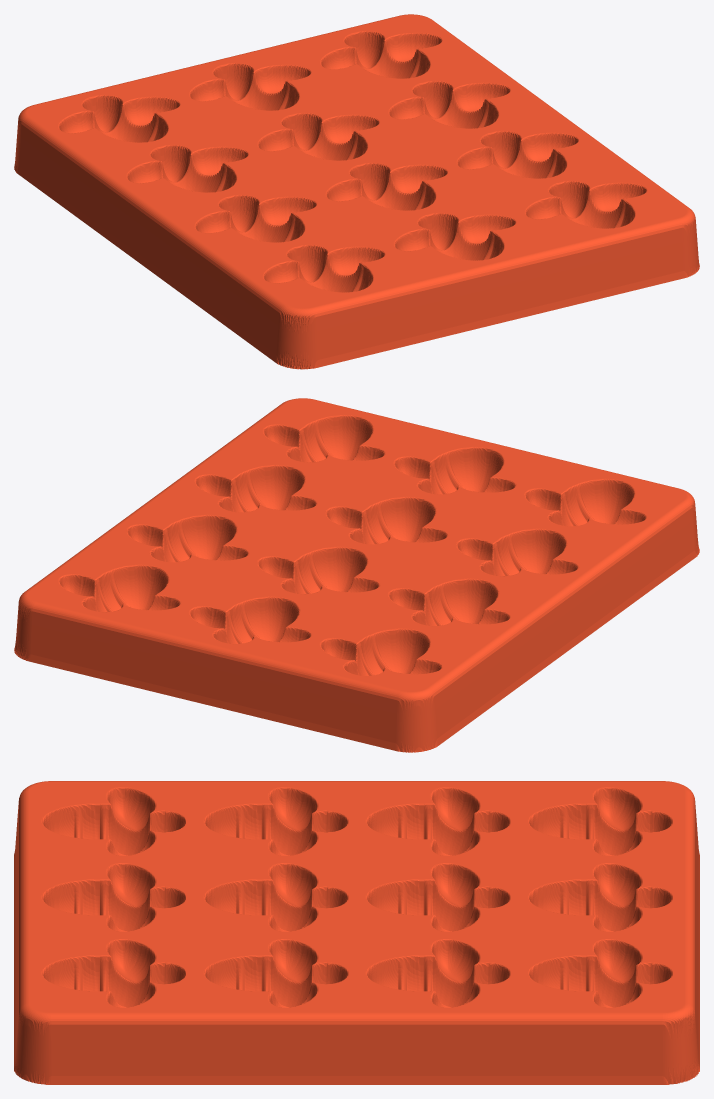
The model's file is mold.glb.
3 views of the same model, one above another, from view 1: azimuth 30°, elevation 25°; view 2: azimuth 150°, elevation 25°; view 3: azimuth 270°, elevation 25° (orthographic). The views are drawn at different scales.
Parts seen in each view (by area): view 1: geometry_0; view 2: geometry_0; view 3: geometry_0.
Boxes of the visible parts, box(x1,y1,x2,y2) form: geometry_0: box(14, 14, 699, 369); geometry_0: box(14, 398, 699, 752); geometry_0: box(14, 781, 699, 1084).
Size of the model in its own units: 0.1389 by 0.0175 by 0.1654.
